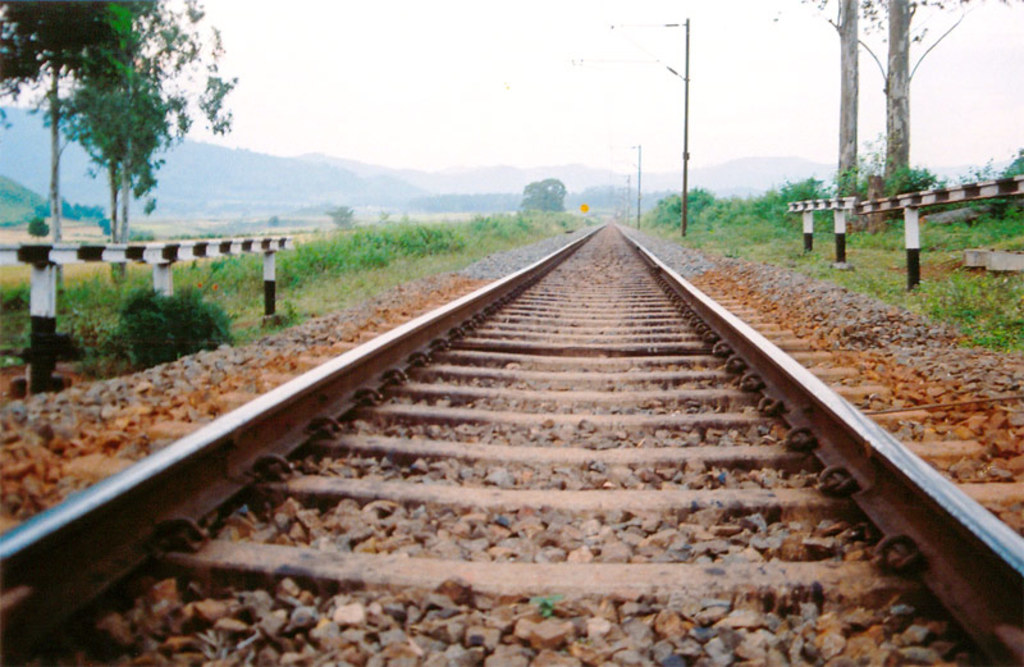Tree: (236, 135, 1022, 271), (42, 0, 239, 247)
